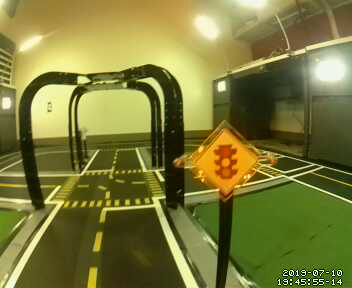Traffic light sign: (193, 126, 256, 200)
